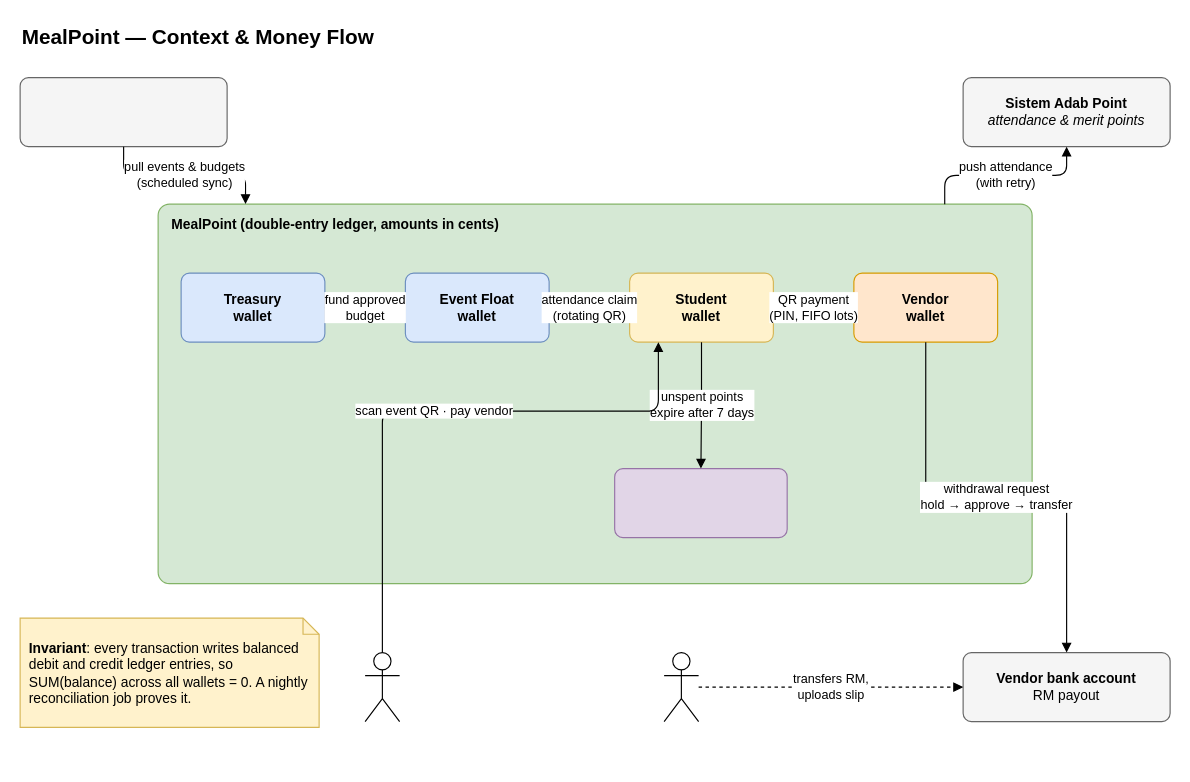
This 1190x782 diagram has some shape labels left out. The shapes that lost their labels are listed below. From the top down, each one's centre as x and y in pixels, then its label:
pixel 123 111: Sistem Holistik approved activity budgets
pixel 700 502: Yayasan UMP wallet
pixel 382 686: Student
pixel 681 686: Bendahari (finance office)
